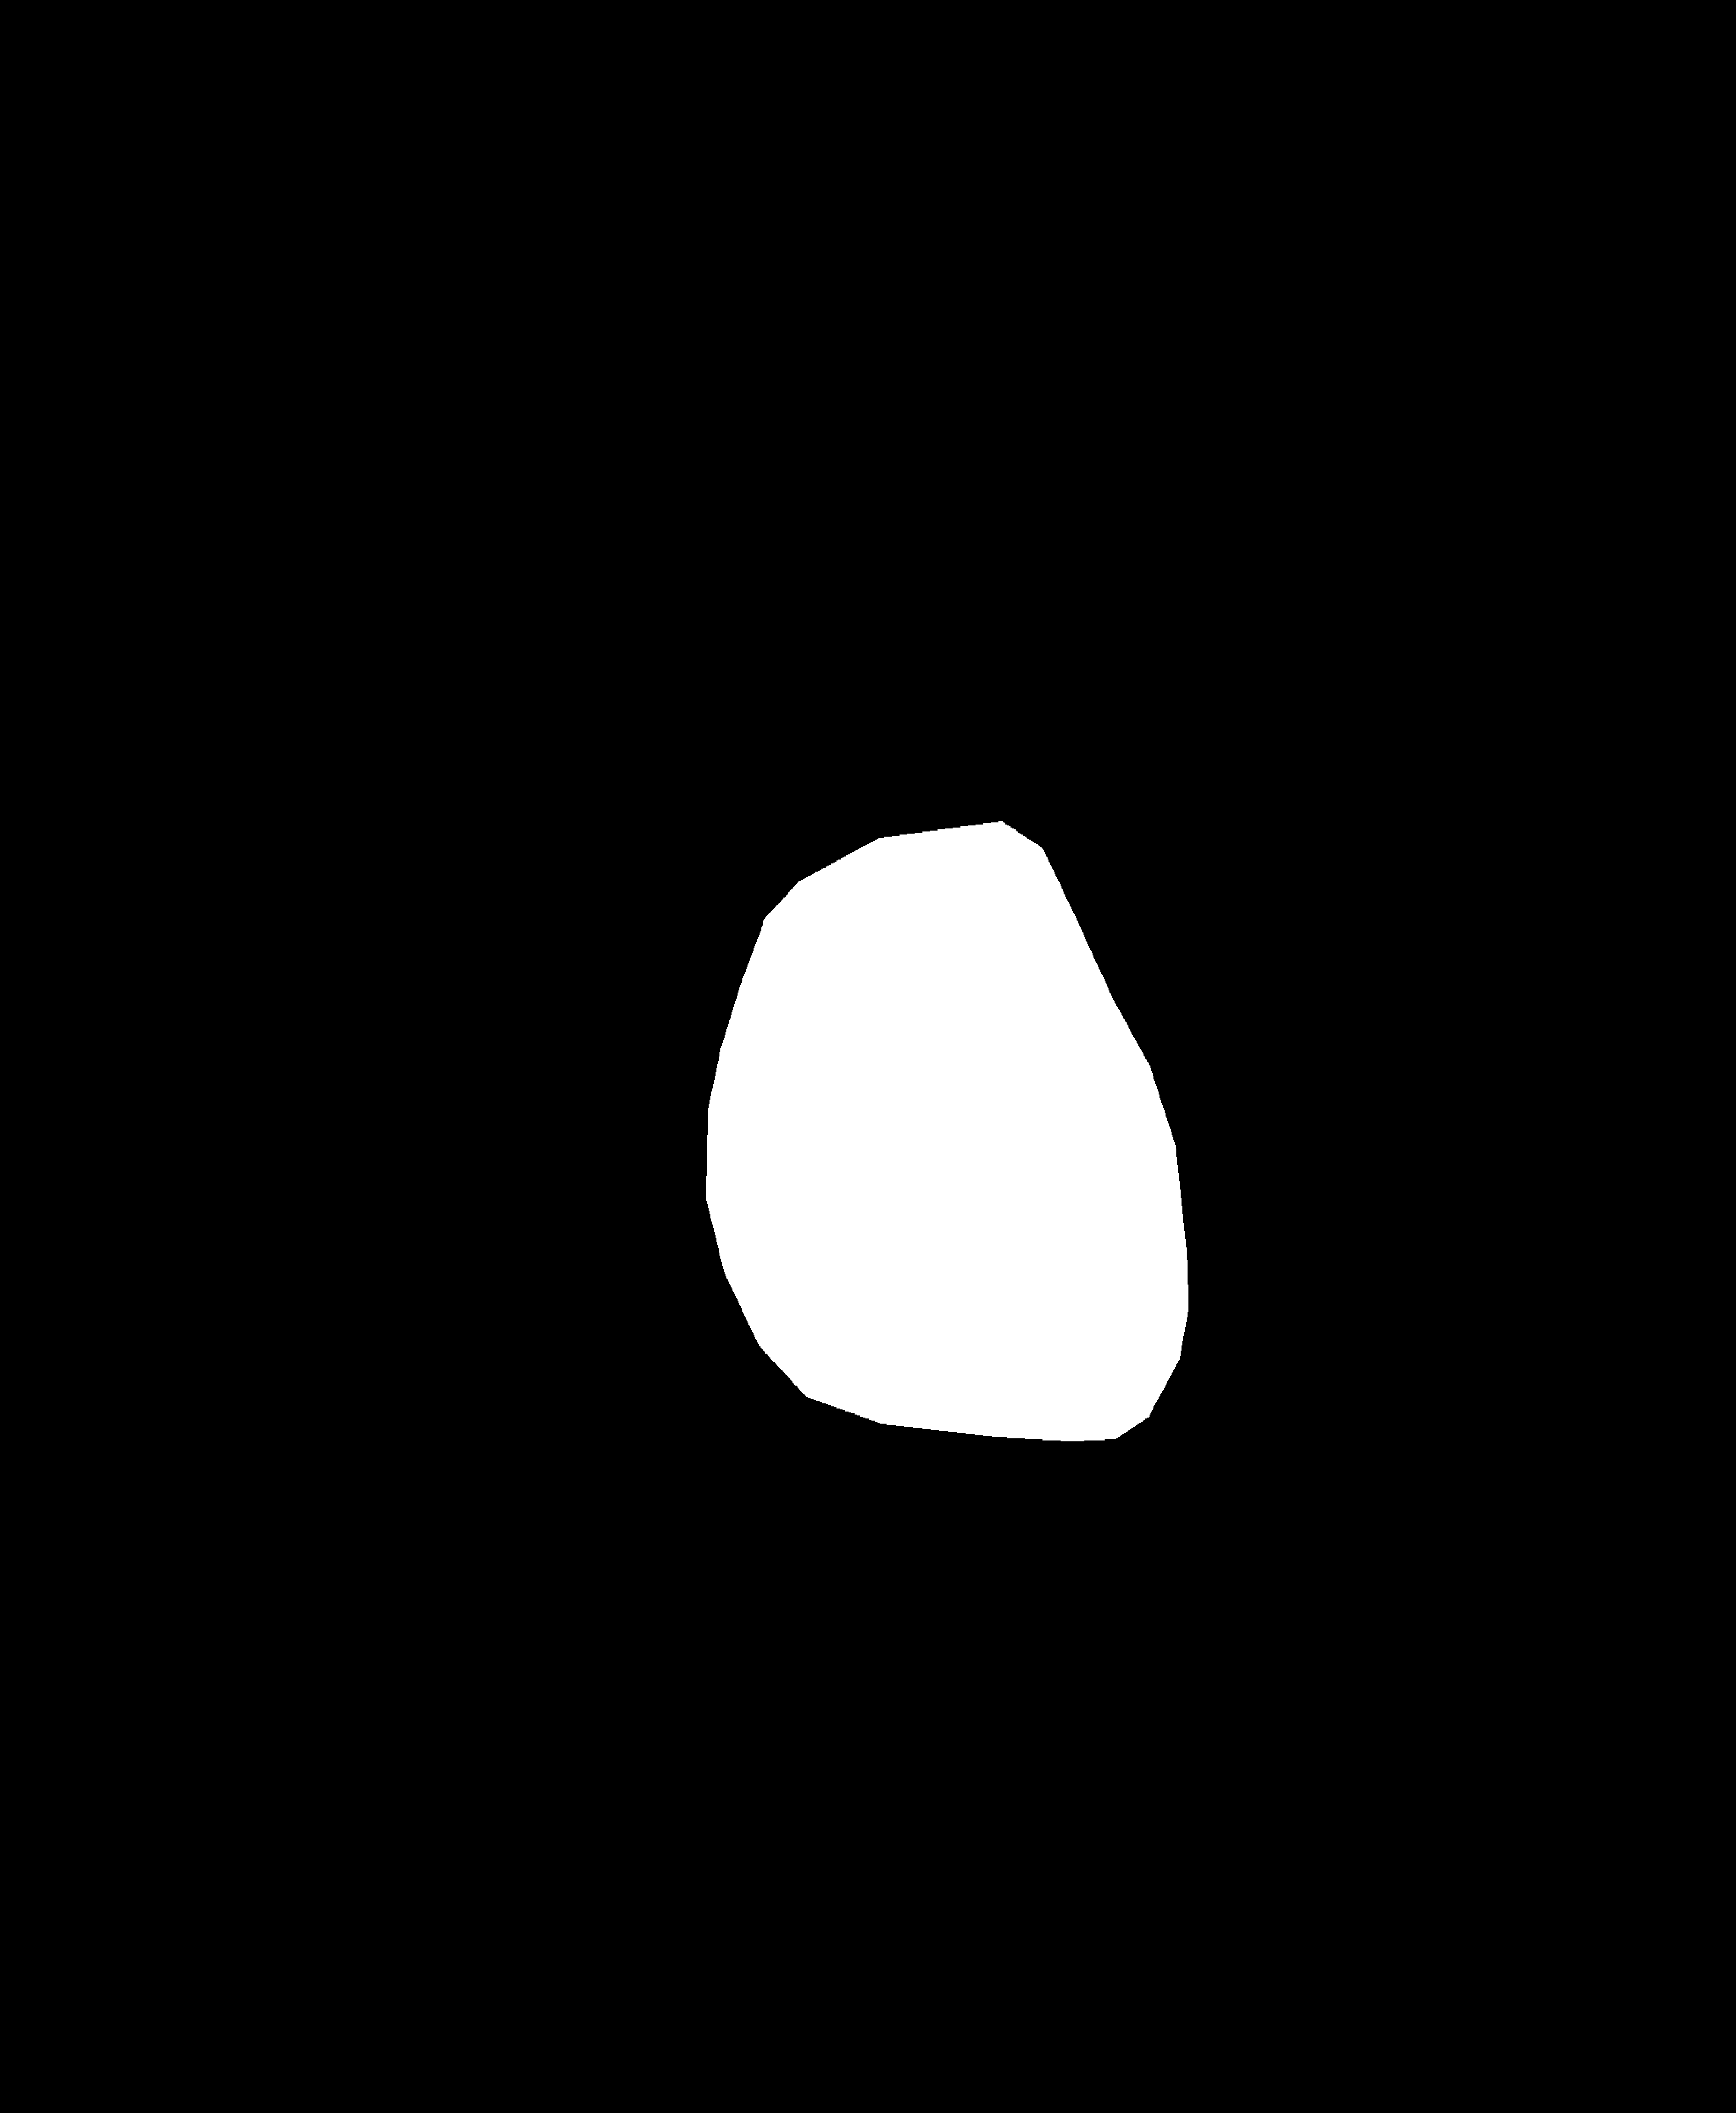heart: (707, 955, 1187, 1464)
left_lung: (174, 240, 811, 1695)
right_lung: (918, 226, 1569, 1722)
